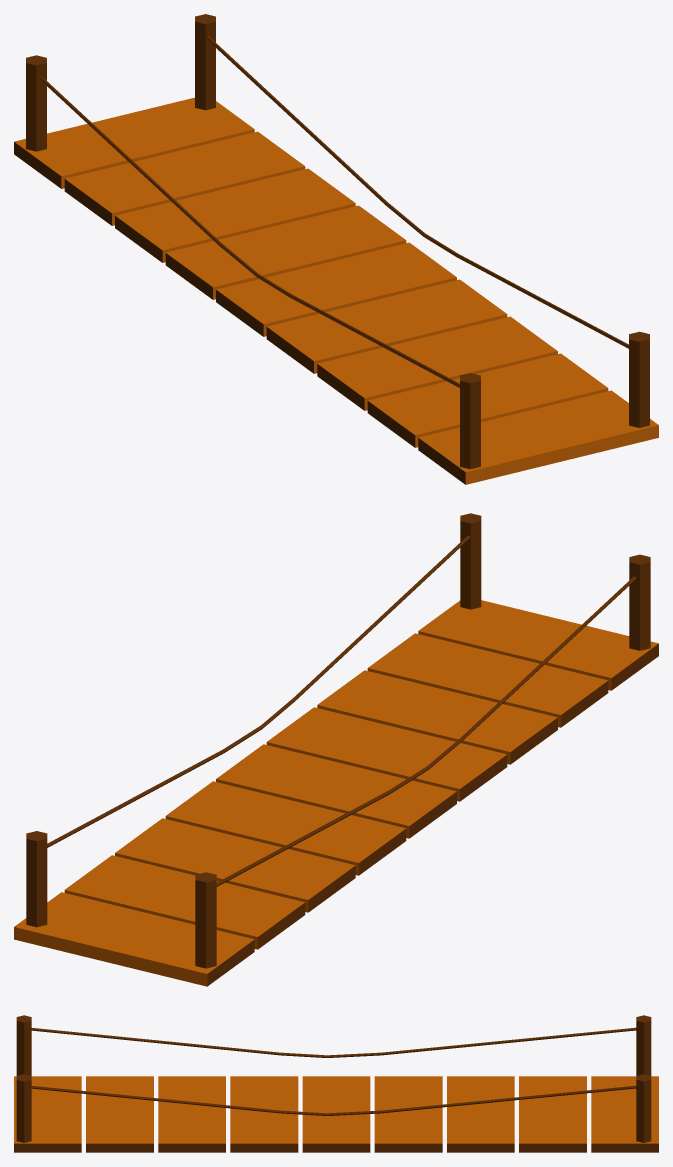
The model's file is Bridge.fbx.
The picture shows the model from 3 angles, top to bottom: view 1: azimuth 30°, elevation 25°; view 2: azimuth 150°, elevation 25°; view 3: azimuth 270°, elevation 25°; orthographic projection. The views are drawn at different scales.
Parts seen in each view (by area): view 1: polySurface4; view 2: polySurface4; view 3: polySurface4.
Boxes of the visible parts, box(x1,y1,x2,y2) form: polySurface4: box(14, 14, 658, 484); polySurface4: box(14, 513, 658, 986); polySurface4: box(14, 1015, 658, 1152).
Bounding box in the file's own units: 6.02 × 2.94 × 24.38.
